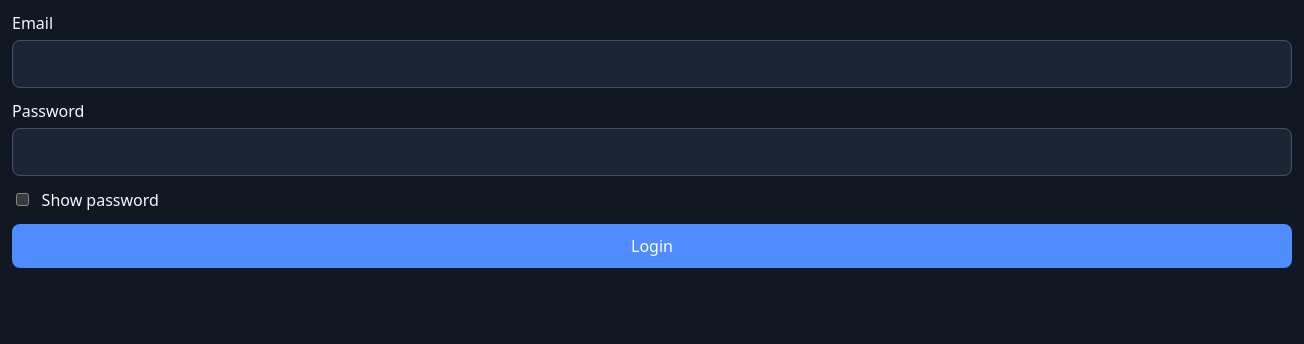
Scenario: Login › shows the API error when login fails
The width and height of the screenshot is (1304, 344).
Type "student@test.com" into the field labelled "Email" at (652, 64), box 12,40 -> 1292,88
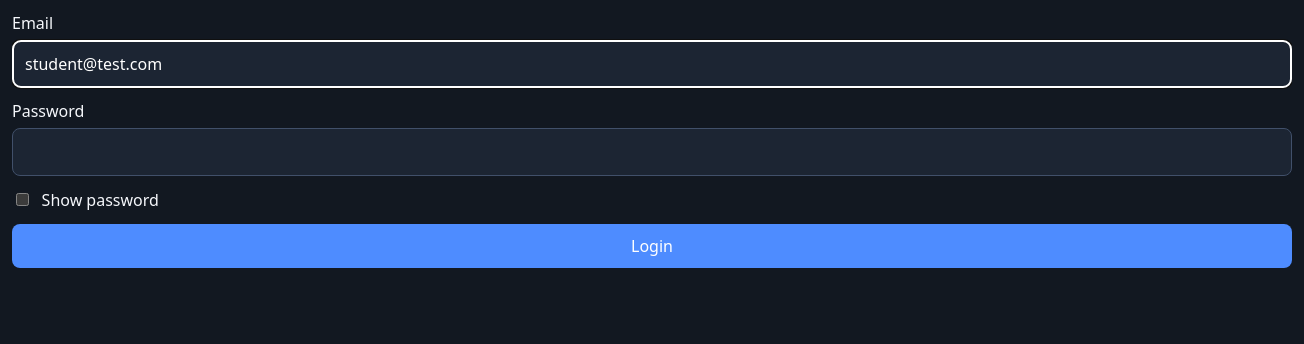
Type "WrongPassword1" into the password field labelled "Password" at (652, 152), box 12,128 -> 1292,176
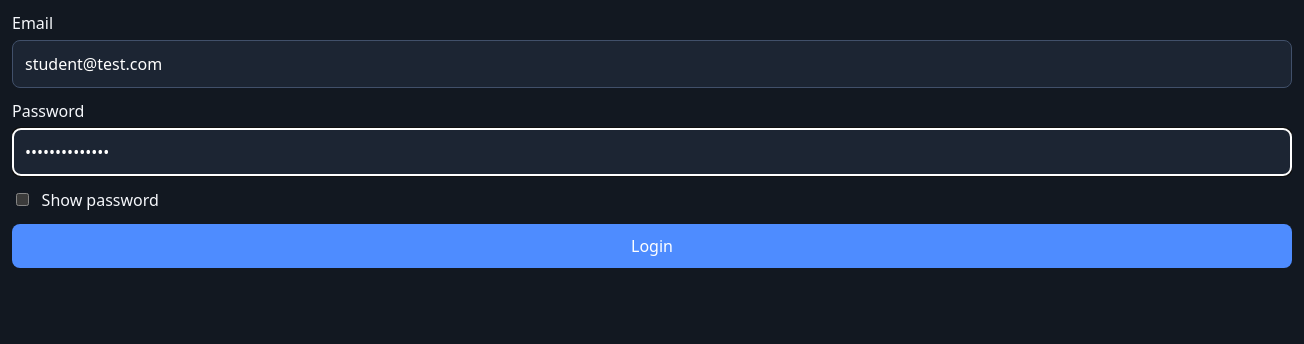
Click the button "Login" at (652, 246), box 12,224 -> 1292,268
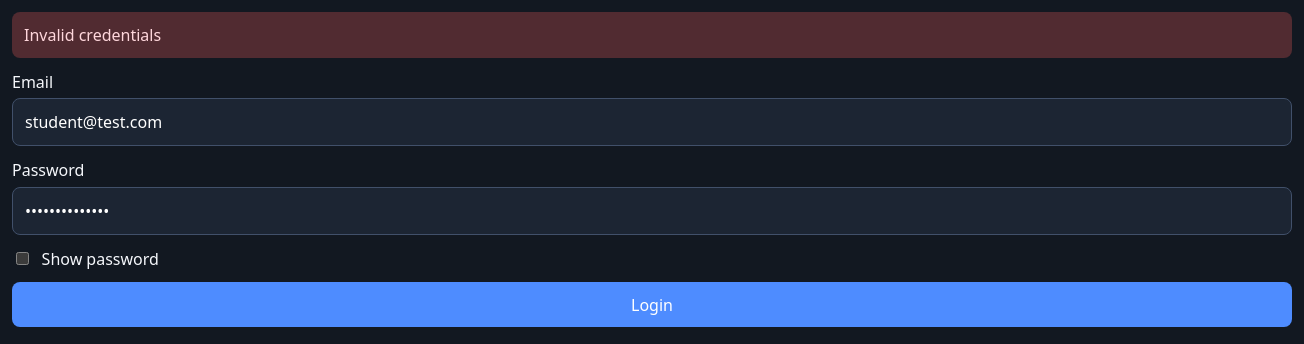
Expected: the text "Invalid credentials" is shown, 12,12 -> 1292,58
